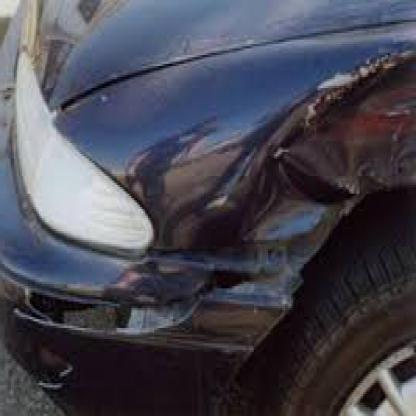dent: (234, 146, 342, 247), (195, 257, 264, 320)
